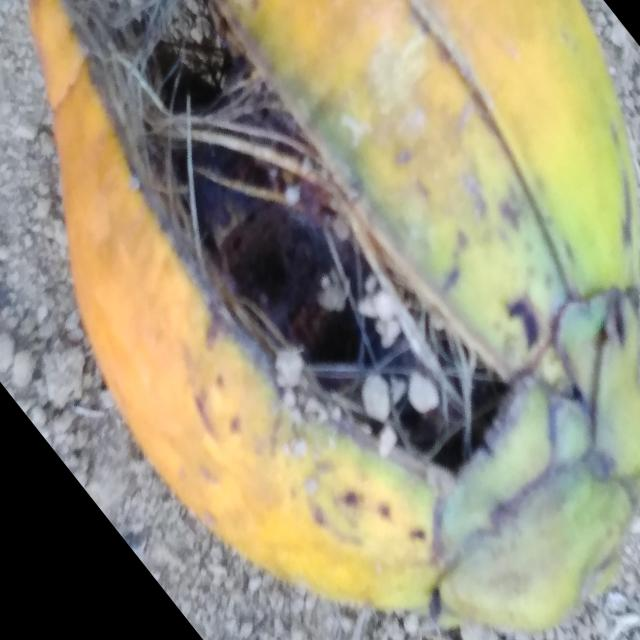damaged: (30, 0, 640, 631)
